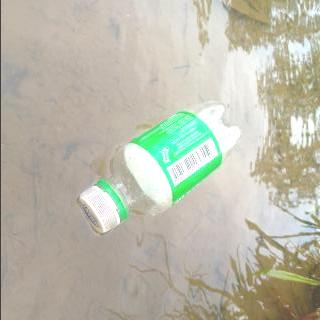bottle: (76, 99, 242, 233)
